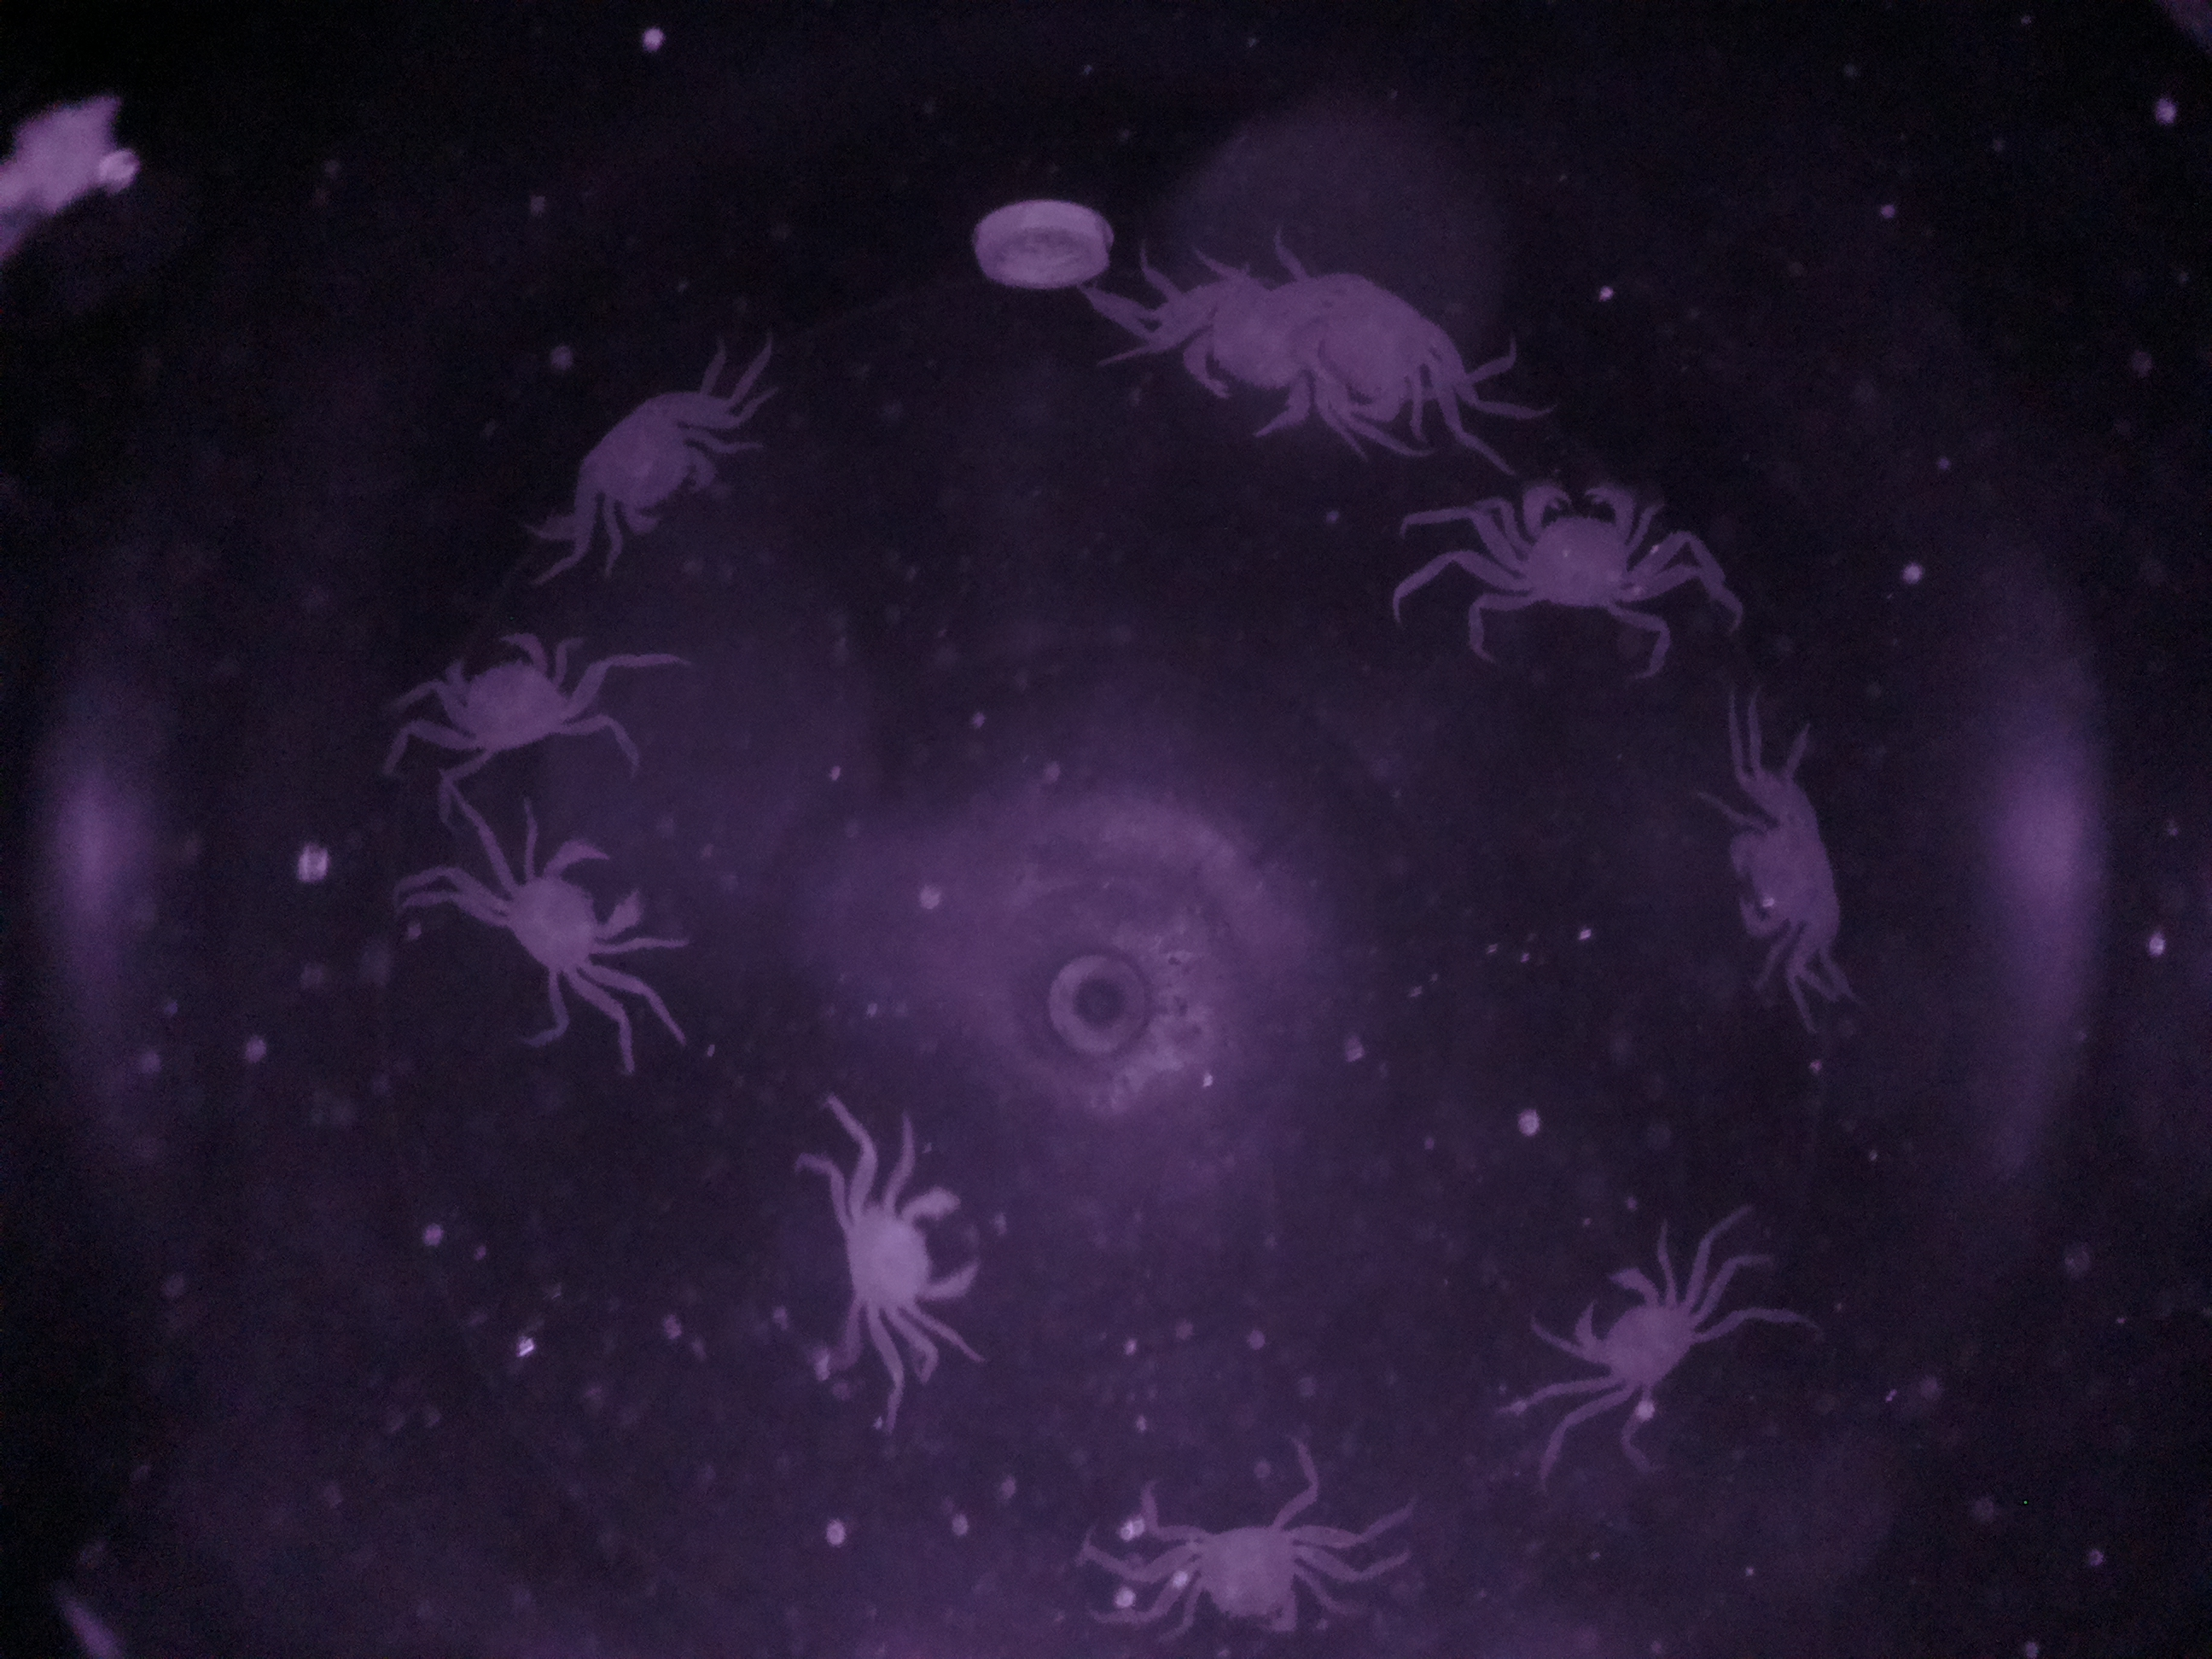Crab: (1137, 1464, 1352, 1659), (1465, 453, 1684, 643), (469, 831, 672, 1019), (1696, 777, 1862, 1009), (395, 615, 603, 800), (550, 369, 744, 561), (810, 1162, 1000, 1347), (1529, 1243, 1709, 1410)
